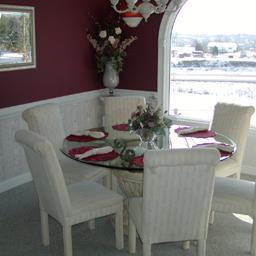Matera: (87, 31, 131, 95)
Ventana: (170, 2, 255, 124)
